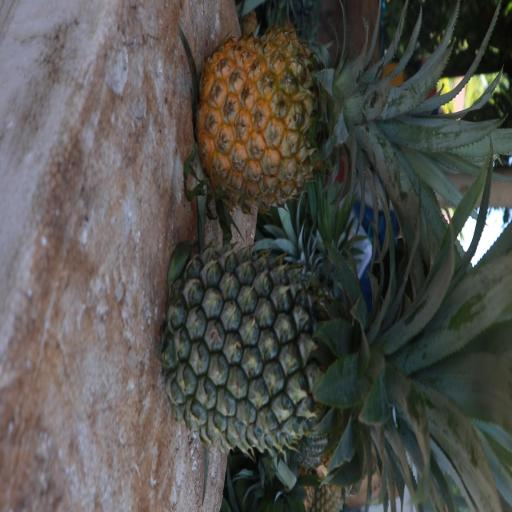Pineapple - v8 v1: (197, 43, 492, 205)
